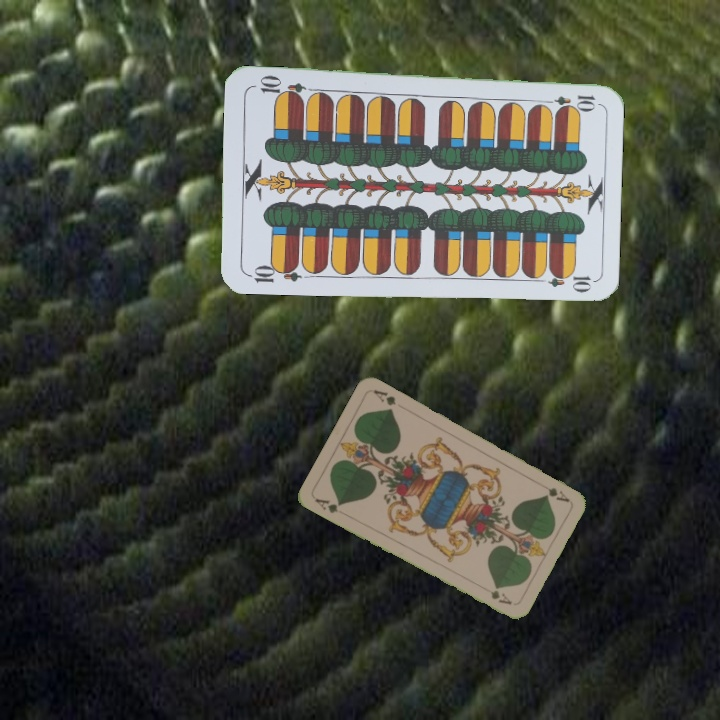E10: (244, 259, 303, 285), (539, 91, 598, 109)
GA: (311, 494, 344, 516), (544, 483, 572, 505)
